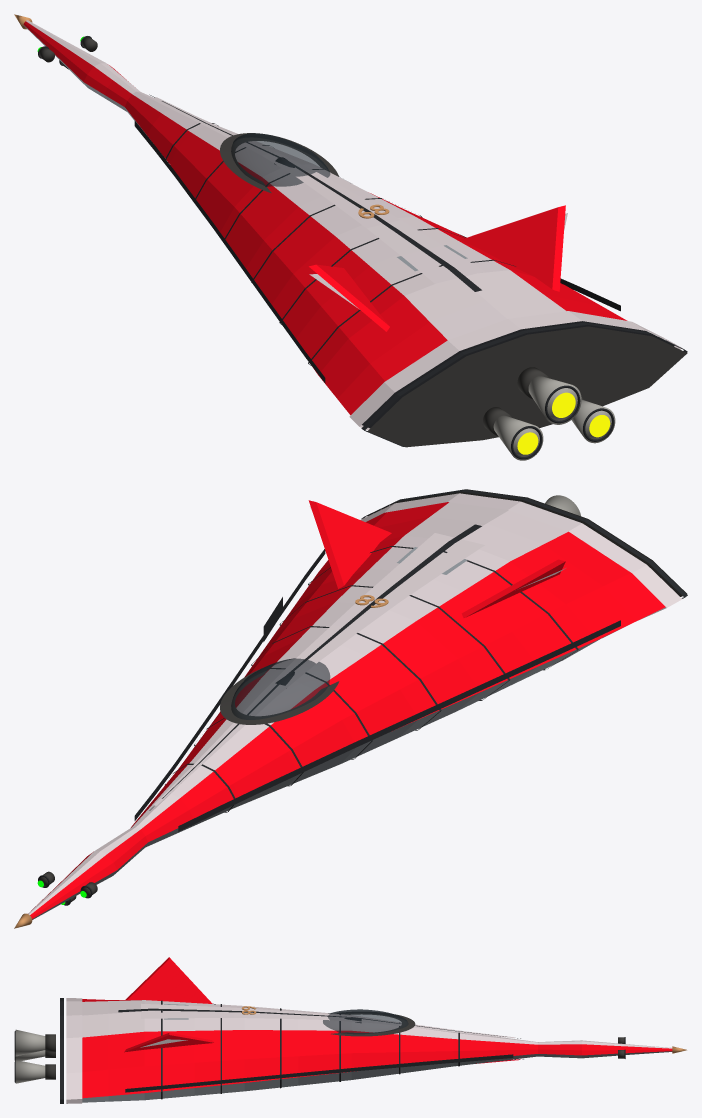
File: Ship_PyramidLifter_97249.glb
3 views of the same model, one above another, from view 1: azimuth 30°, elevation 25°; view 2: azimuth 150°, elevation 25°; view 3: azimuth 270°, elevation 25° (orthographic). The views are drawn at different scales.
Visible parts, largest first — view 1: Fuselage_MainPyramidalLiftingBody, EngineDeck_AftFacetedDarkMountPlate, PaintDorsalSplit_PrimaryCentralArmor, TailFin_Right_ShortCantedStabilizer, EngineDeck_AftOuterArmorCollar, CanopyGlass_LowInsetSmokedDome, Nose_FacetedRamNeedle, CanopyFrame_LowInsetArmoredOvalRim, TailFin_Left_ShortCantedStabilizer, SideChinePanel_Left_LongDarkArmorJoint, EngineDeck_AftDarkCompressionSeal, EngineEmitter (+4 smaller); view 2: Fuselage_MainPyramidalLiftingBody, PaintDorsalSplit_PrimaryCentralArmor, CanopyGlass_LowInsetSmokedDome, EngineDeck_AftOuterArmorCollar, TailFin_Right_ShortCantedStabilizer, Nose_FacetedRamNeedle, SideChinePanel_Left_LongDarkArmorJoint, CanopyFrame_LowInsetArmoredOvalRim, SideChinePanel_Right_LongDarkArmorJoint, HullLongitudinalSeam_DorsalRidgeDarkLine, EngineDeck_AftDarkCompressionSeal, EngineDeck_AftFacetedDarkMountPlate (+1 smaller); view 3: Fuselage_MainPyramidalLiftingBody, PaintDorsalSplit_PrimaryCentralArmor, TailFin_Left_ShortCantedStabilizer, EngineDeck_AftOuterArmorCollar, Nose_FacetedRamNeedle, CanopyGlass_LowInsetSmokedDome, SideChinePanel_Right_LongDarkArmorJoint, TailFin_Right_ShortCantedStabilizer, EngineBell_CenterUpper_BurnishedNozzle, CanopyFrame_LowInsetArmoredOvalRim, EngineBell_RightLower_BurnishedNozzle, HullLongitudinalSeam_DorsalRidgeDarkLine (+1 smaller).
Boxes of the visible parts, box(x1,y1,x2,y2) form: Fuselage_MainPyramidalLiftingBody: box(125, 91, 674, 428); EngineDeck_AftFacetedDarkMountPlate: box(367, 326, 687, 447); PaintDorsalSplit_PrimaryCentralArmor: box(154, 97, 484, 283); TailFin_Right_ShortCantedStabilizer: box(461, 205, 565, 291); EngineDeck_AftOuterArmorCollar: box(349, 311, 682, 430); CanopyGlass_LowInsetSmokedDome: box(231, 133, 330, 186); Nose_FacetedRamNeedle: box(23, 20, 140, 111); CanopyFrame_LowInsetArmoredOvalRim: box(220, 133, 339, 193); TailFin_Left_ShortCantedStabilizer: box(309, 264, 389, 331); SideChinePanel_Left_LongDarkArmorJoint: box(134, 120, 325, 383); EngineDeck_AftDarkCompressionSeal: box(361, 322, 687, 446); EngineEmitter: box(517, 392, 610, 454); Fuselage_MainPyramidalLiftingBody: box(131, 502, 665, 847); PaintDorsalSplit_PrimaryCentralArmor: box(154, 533, 484, 805); CanopyGlass_LowInsetSmokedDome: box(231, 658, 330, 719); EngineDeck_AftOuterArmorCollar: box(360, 493, 682, 621); TailFin_Right_ShortCantedStabilizer: box(308, 500, 391, 588); Nose_FacetedRamNeedle: box(28, 827, 147, 919); SideChinePanel_Left_LongDarkArmorJoint: box(178, 620, 620, 831); CanopyFrame_LowInsetArmoredOvalRim: box(220, 665, 339, 724); SideChinePanel_Right_LongDarkArmorJoint: box(134, 549, 325, 820); HullLongitudinalSeam_DorsalRidgeDarkLine: box(149, 524, 481, 810); EngineDeck_AftDarkCompressionSeal: box(361, 489, 687, 598); EngineDeck_AftFacetedDarkMountPlate: box(367, 489, 687, 596); Fuselage_MainPyramidalLiftingBody: box(82, 999, 537, 1102); PaintDorsalSplit_PrimaryCentralArmor: box(141, 1003, 514, 1038); TailFin_Left_ShortCantedStabilizer: box(125, 957, 212, 1003); EngineDeck_AftOuterArmorCollar: box(66, 998, 82, 1103); Nose_FacetedRamNeedle: box(538, 1040, 672, 1058); CanopyGlass_LowInsetSmokedDome: box(323, 1009, 408, 1034); SideChinePanel_Right_LongDarkArmorJoint: box(125, 1054, 513, 1092); TailFin_Right_ShortCantedStabilizer: box(124, 1032, 214, 1052); EngineBell_CenterUpper_BurnishedNozzle: box(15, 1029, 45, 1056); CanopyFrame_LowInsetArmoredOvalRim: box(331, 1012, 415, 1036); EngineBell_RightLower_BurnishedNozzle: box(15, 1060, 45, 1083); HullLongitudinalSeam_DorsalRidgeDarkLine: box(118, 1008, 520, 1038).
Bounding box in the file's own units: 2.93 × 1.19 × 8.63.
